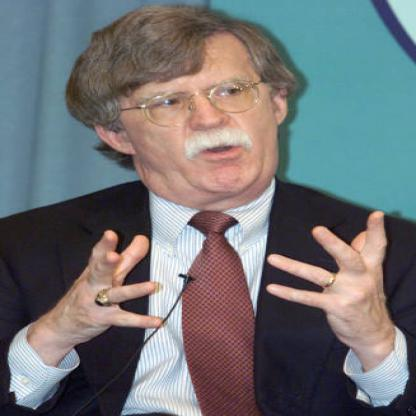face: (117, 12, 276, 203)
